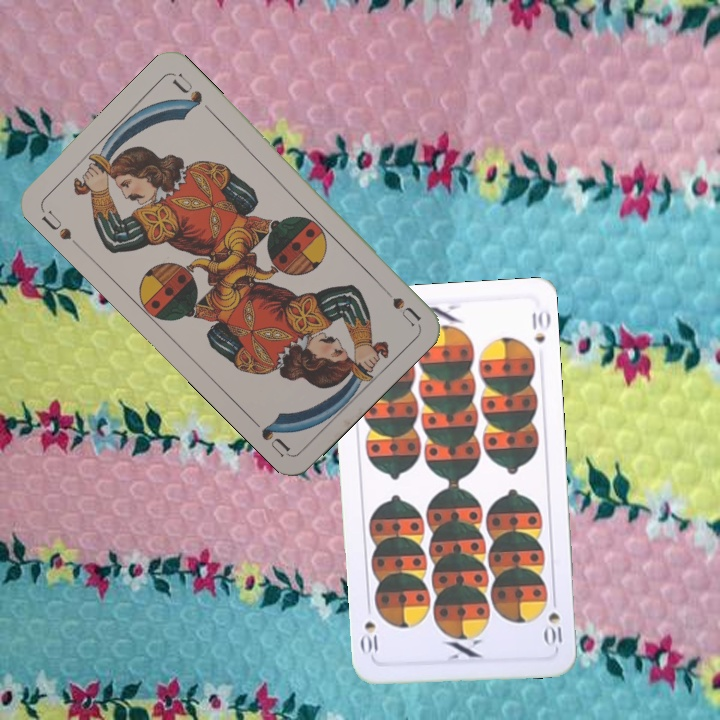S10: (541, 592, 565, 651)
SU: (37, 206, 74, 243), (388, 293, 423, 329)
